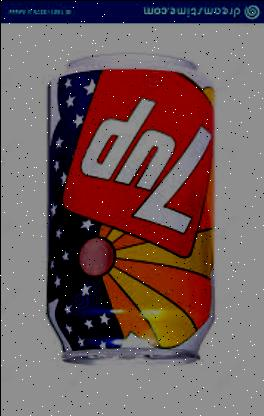Can: (43, 51, 218, 372)
